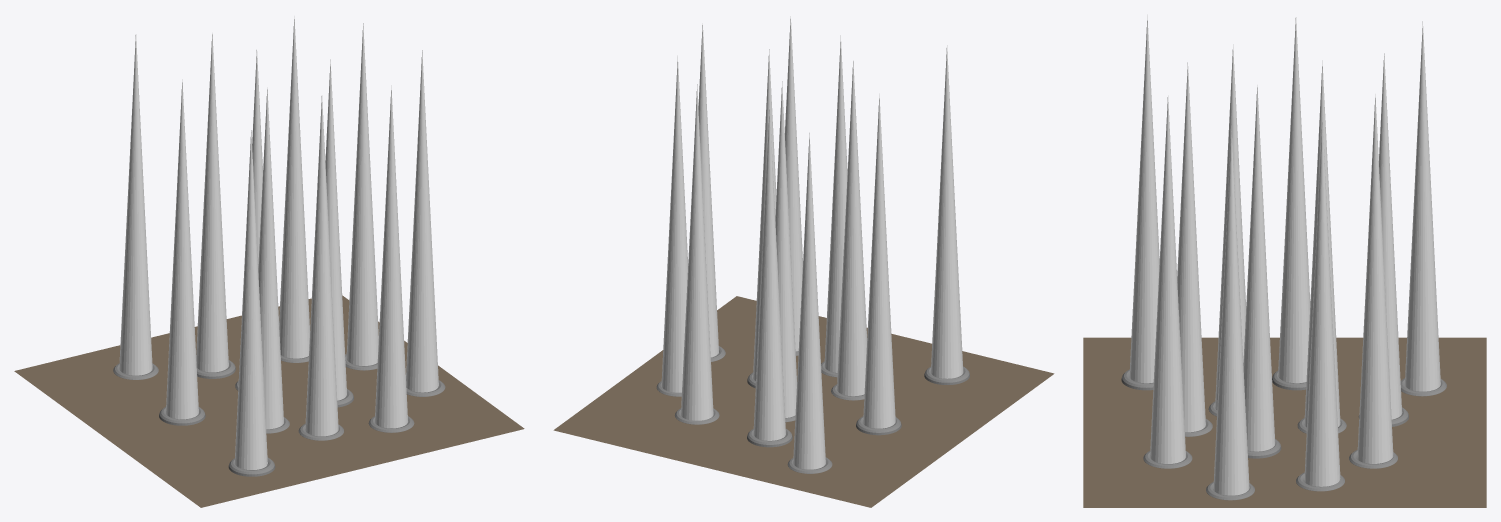
Rendered from TrapOn.fbx.
3 renders of one model, left to right at view 1: azimuth 30°, elevation 25°; view 2: azimuth 150°, elevation 25°; view 3: azimuth 270°, elevation 25°, orthographic. The views are drawn at different scales.
Visible parts, largest first — view 1: TrapOn; view 2: TrapOn; view 3: TrapOn.
Boxes of the visible parts, x1=… form: TrapOn: x1=14, y1=16, x2=524, y2=507; TrapOn: x1=553, y1=16, x2=1054, y2=507; TrapOn: x1=1083, y1=14, x2=1486, y2=507.
Bounding box in the file's own units: 2 × 2.04 × 2.
